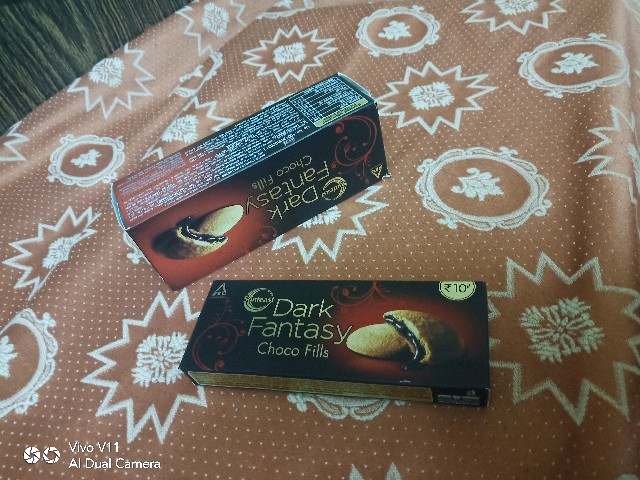darkfantasy big: (69, 83, 478, 288)
darkfantasy small: (112, 274, 522, 410)
